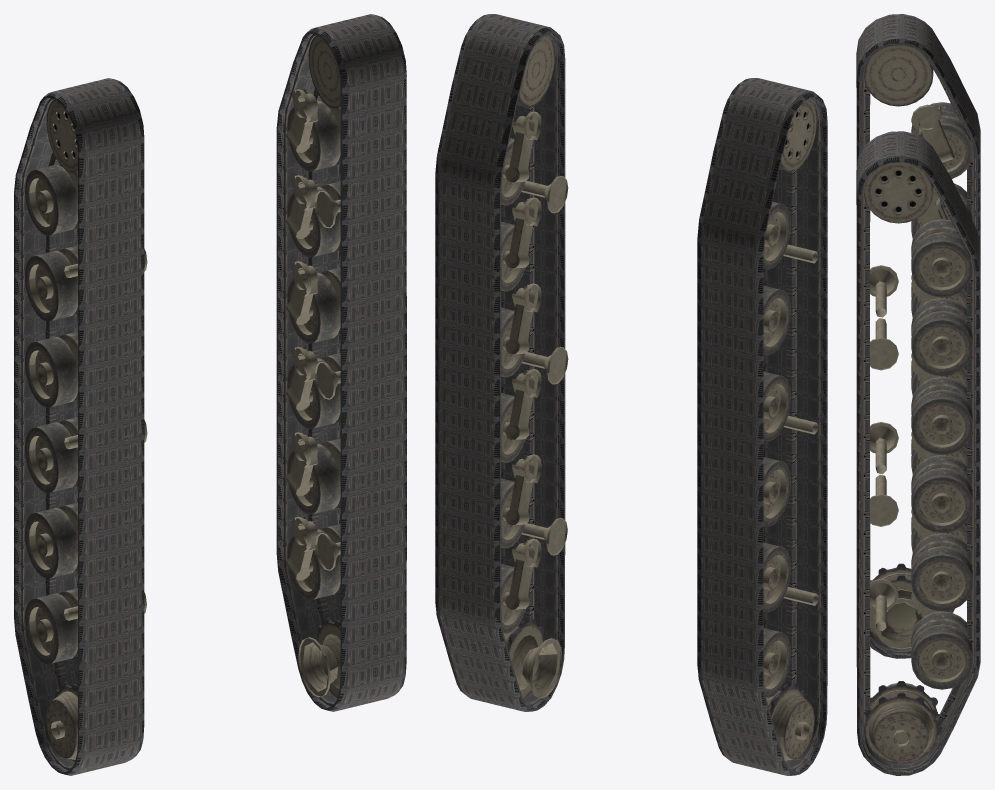
File: Chassis.glb
The picture shows the model from 3 angles, left to right: view 1: azimuth 30°, elevation 25°; view 2: azimuth 150°, elevation 25°; view 3: azimuth 270°, elevation 25°; orthographic projection. The views are drawn at different scales.
Visible parts, largest first — view 1: set_0_group_0, set_1_group_0, set_3_group_0, set_2_group_0; view 2: set_0_group_0, set_1_group_0, set_3_group_0, set_2_group_0; view 3: set_3_group_0, set_1_group_0, set_2_group_0, set_0_group_0.
Part boxes in pixels (bbox=[...]): set_0_group_0: bbox=[14, 78, 144, 775]; set_1_group_0: bbox=[276, 14, 406, 711]; set_3_group_0: bbox=[286, 35, 340, 698]; set_2_group_0: bbox=[25, 99, 147, 762]; set_0_group_0: bbox=[697, 78, 827, 775]; set_1_group_0: bbox=[435, 14, 565, 711]; set_3_group_0: bbox=[501, 35, 568, 698]; set_2_group_0: bbox=[763, 99, 818, 762]; set_3_group_0: bbox=[864, 162, 972, 763]; set_1_group_0: bbox=[856, 131, 980, 775]; set_2_group_0: bbox=[864, 45, 972, 649]; set_0_group_0: bbox=[856, 14, 980, 658].
Size of the model in its own units: 3.08 by 6.06 by 1.1.
4 materials, 4 textured.
